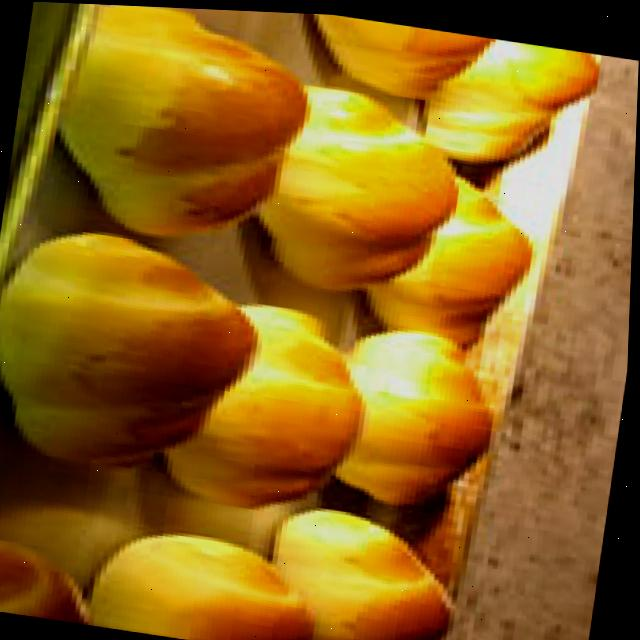面包点心: (0, 0, 606, 640)
